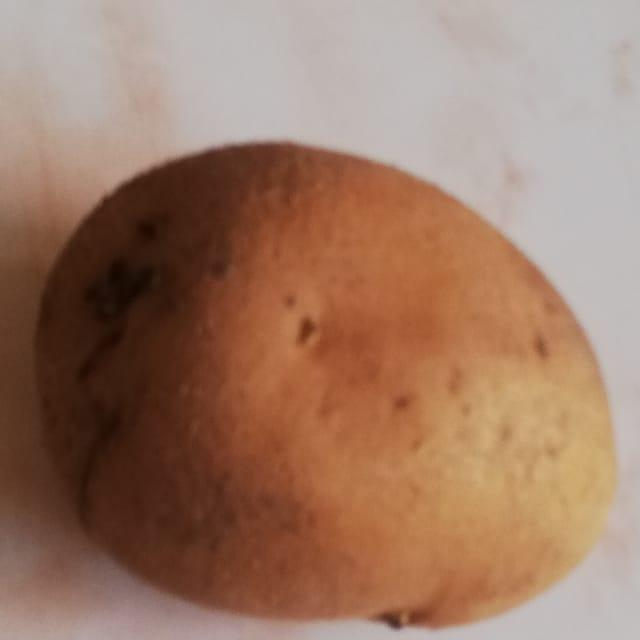potato: (8, 112, 635, 640)
